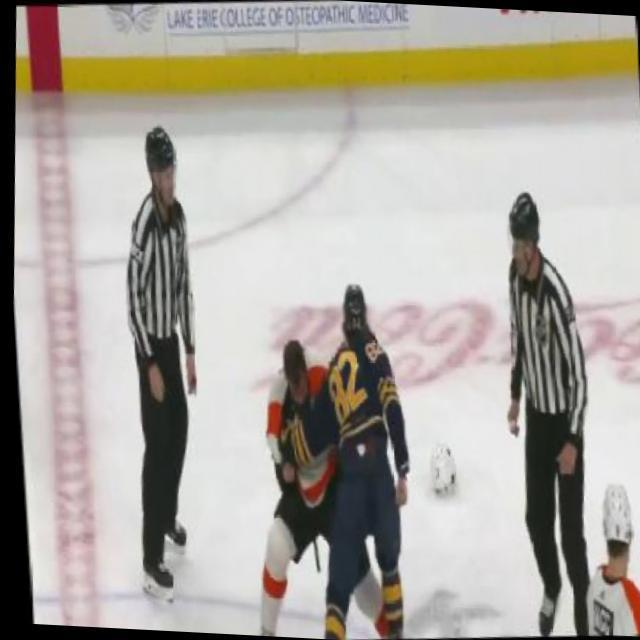fight: (228, 268, 436, 640)
